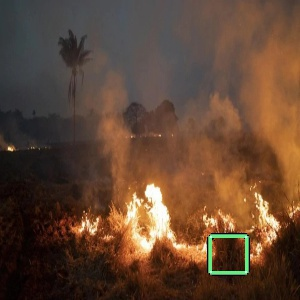square: (207, 232, 250, 276)
